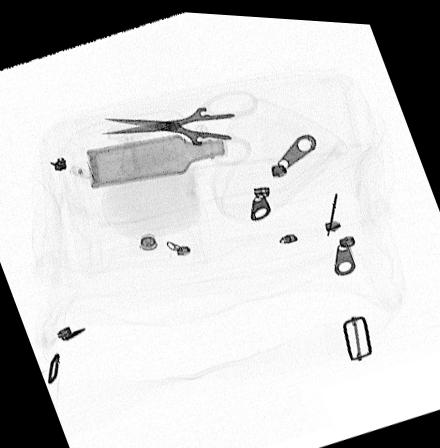Scissors: (97, 81, 261, 164)
